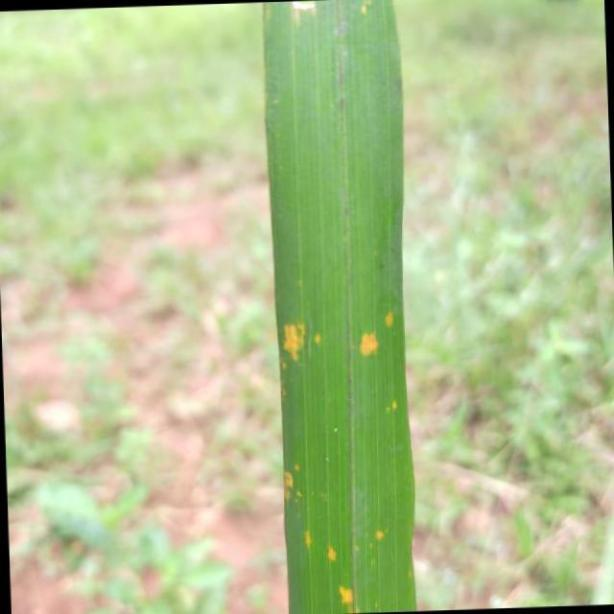Kalium: (259, 0, 419, 614)
